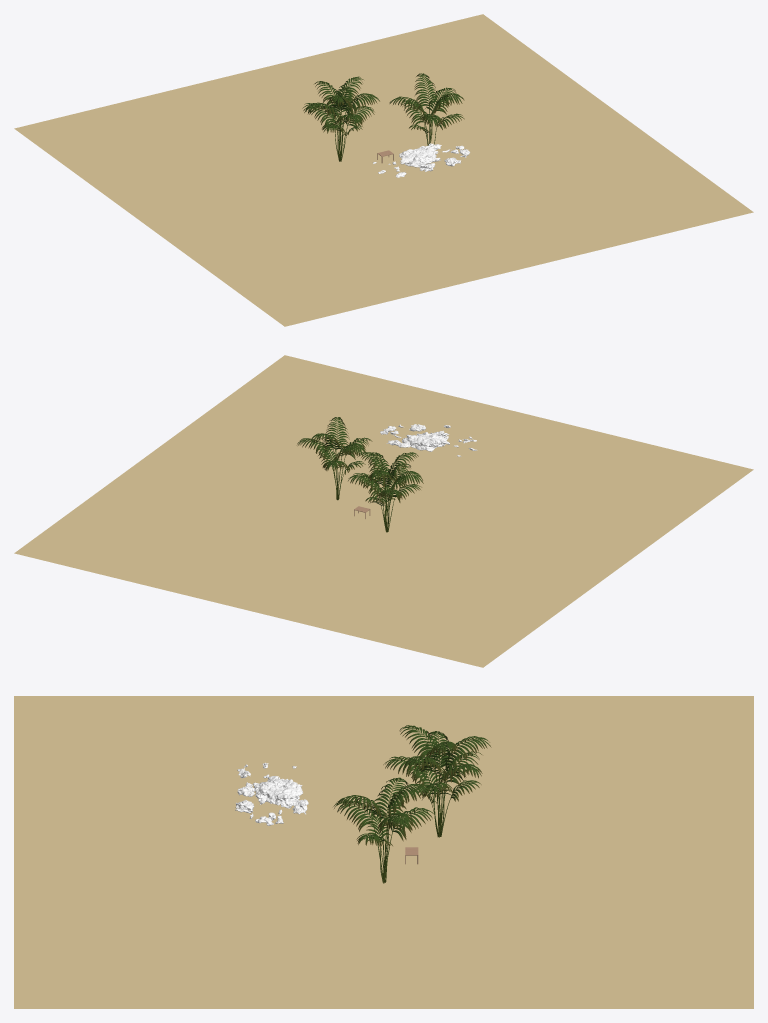
File: playa.glb
The picture shows the model from 3 angles, top to bottom: view 1: azimuth 30°, elevation 25°; view 2: azimuth 150°, elevation 25°; view 3: azimuth 270°, elevation 25°; orthographic projection. The views are drawn at different scales.
Parts seen in each view (by area): view 1: Terrain_Arena, Howea_f__A001, Howea_f__A002, Cloud Polygon Blender 1; view 2: Terrain_Arena, Howea_f__A001, Howea_f__A002, Cloud Polygon Blender 1; view 3: Terrain_Arena, Howea_f__A001, Howea_f__A002, Cloud Polygon Blender 1.
Boxes of the visible parts, x1,y1,x2,y2 form: Terrain_Arena: [14, 14, 753, 326]; Howea_f__A001: [302, 76, 379, 161]; Howea_f__A002: [389, 73, 464, 145]; Cloud Polygon Blender 1: [373, 143, 470, 177]; Terrain_Arena: [14, 355, 753, 667]; Howea_f__A001: [348, 452, 423, 532]; Howea_f__A002: [297, 417, 372, 500]; Cloud Polygon Blender 1: [380, 424, 477, 456]; Terrain_Arena: [14, 696, 753, 1008]; Howea_f__A001: [383, 725, 491, 837]; Howea_f__A002: [333, 777, 434, 883]; Cloud Polygon Blender 1: [235, 762, 308, 825].
Size of what is drawn, in the model's own units: 40 by 6.45 by 40.
Materials: 6 (4 with a texture image).
